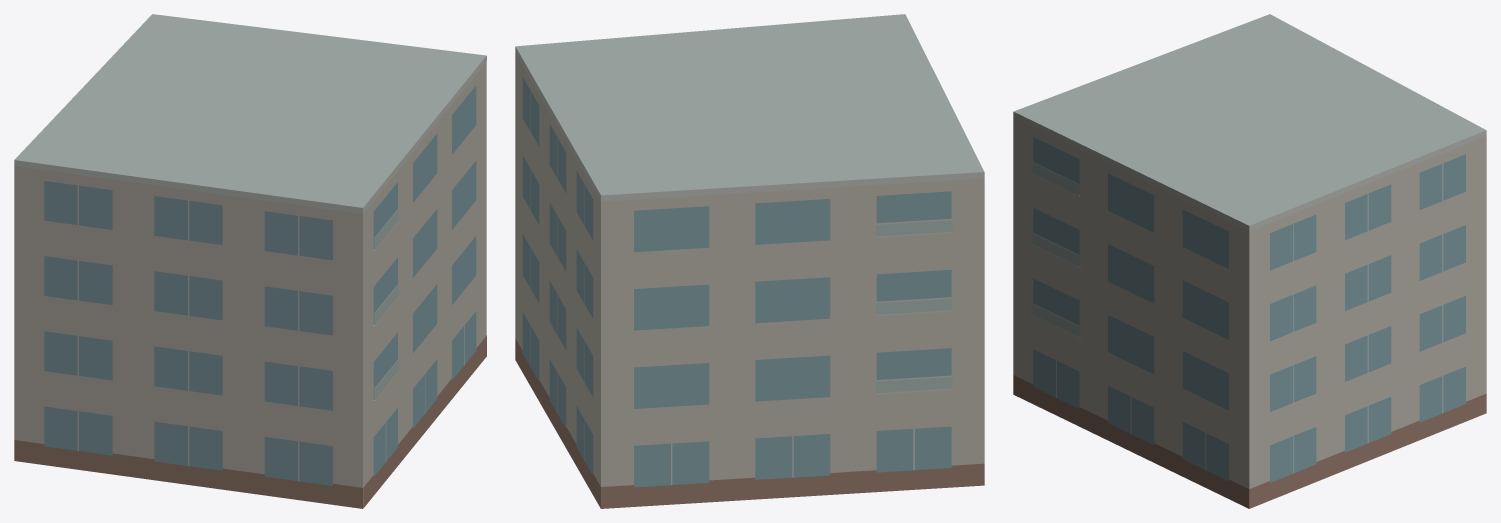
Rendered from survey-upis-32778438.glb.
The picture shows the model from 3 angles, left to right: view 1: azimuth 30°, elevation 25°; view 2: azimuth 150°, elevation 25°; view 3: azimuth 270°, elevation 25°; orthographic projection. The views are drawn at different scales.
Parts seen in each view (by area): view 1: survey-upis-32778438.tmp; view 2: survey-upis-32778438.tmp; view 3: survey-upis-32778438.tmp.
Boxes of the visible parts, left/top/right/bottom form: survey-upis-32778438.tmp: left=14, top=14, right=486, bottom=508; survey-upis-32778438.tmp: left=515, top=14, right=984, bottom=508; survey-upis-32778438.tmp: left=1013, top=14, right=1486, bottom=508.
Size of the model in its own units: 19.59 by 12.2 by 18.48.
